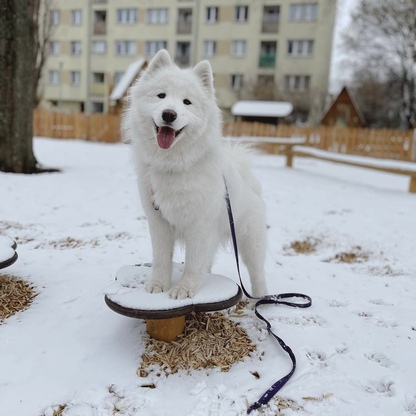samoyed: (119, 45, 275, 306)
